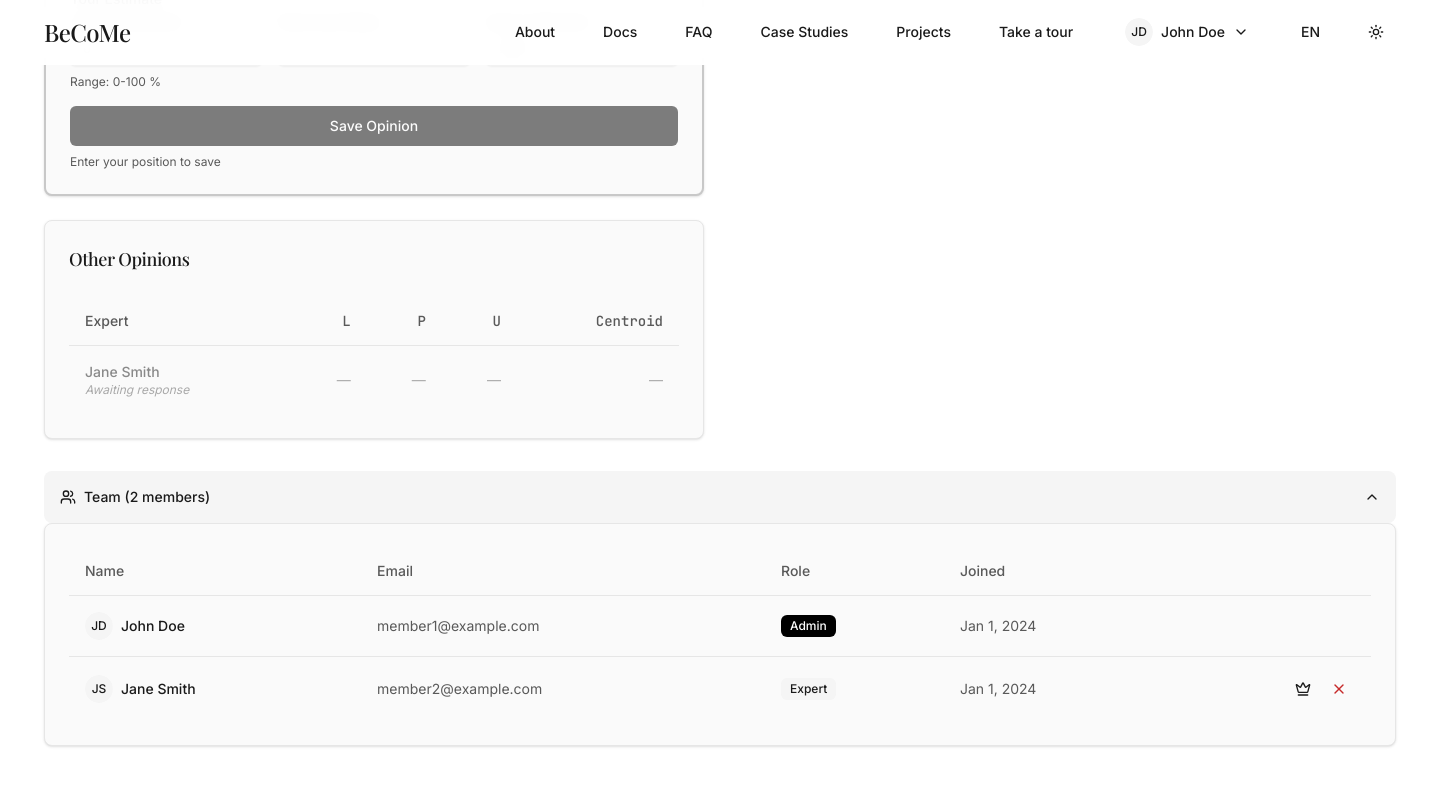
Test case: ProjectDetail - Close Member Profile Dialog › closes profile dialog when dismissed
(page scrolled)
Expected: the text "Jane Smith" is shown, top-left (85, 362), bottom-right (160, 380)
Open the dialog
Click the button with aria-label "view profile of jane smith". click: [158, 689]
box: top-left (121, 679), bottom-right (196, 699)
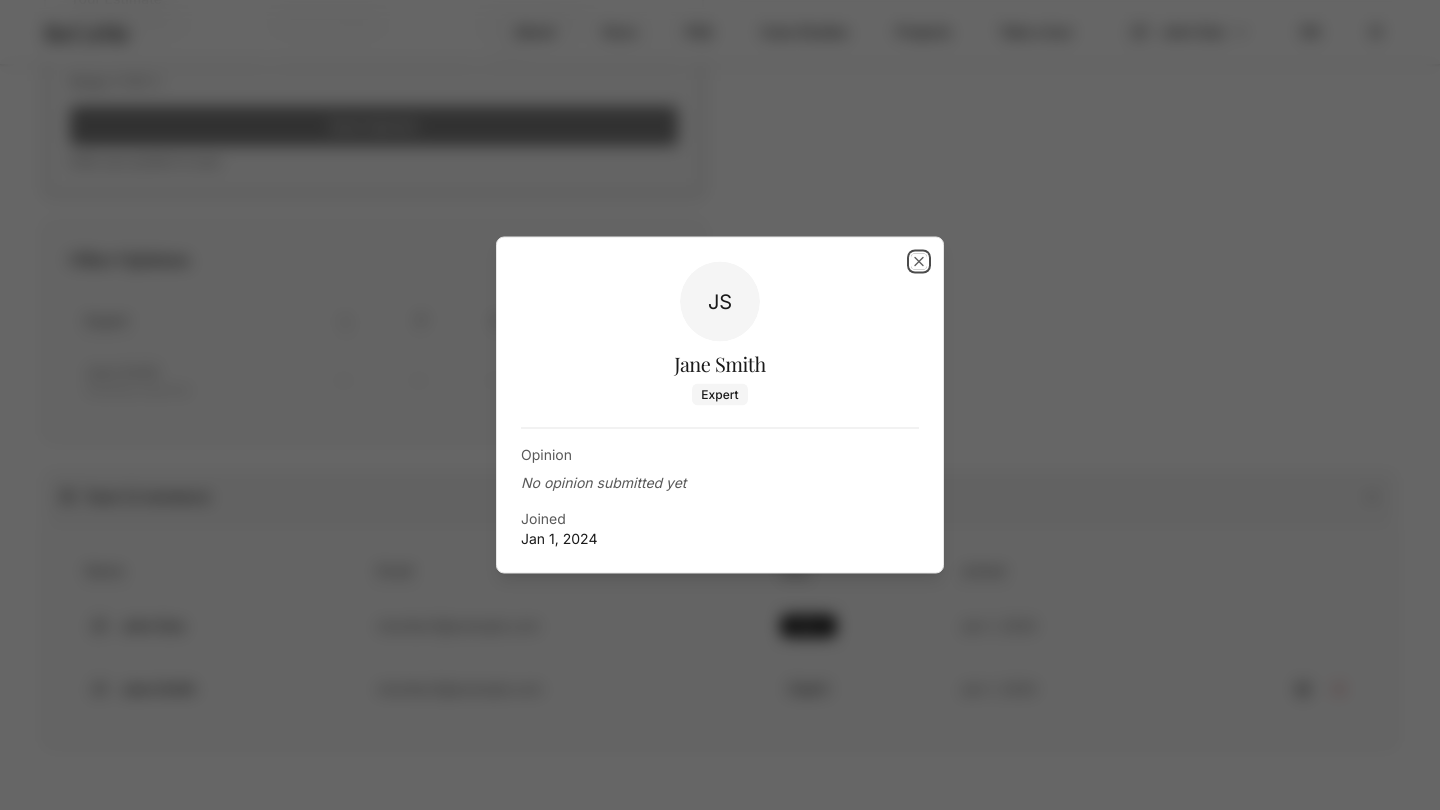
Now the dialog is shown, box top-left (496, 236), bottom-right (944, 574)
Close the dialog by pressing Escape
Press Escape
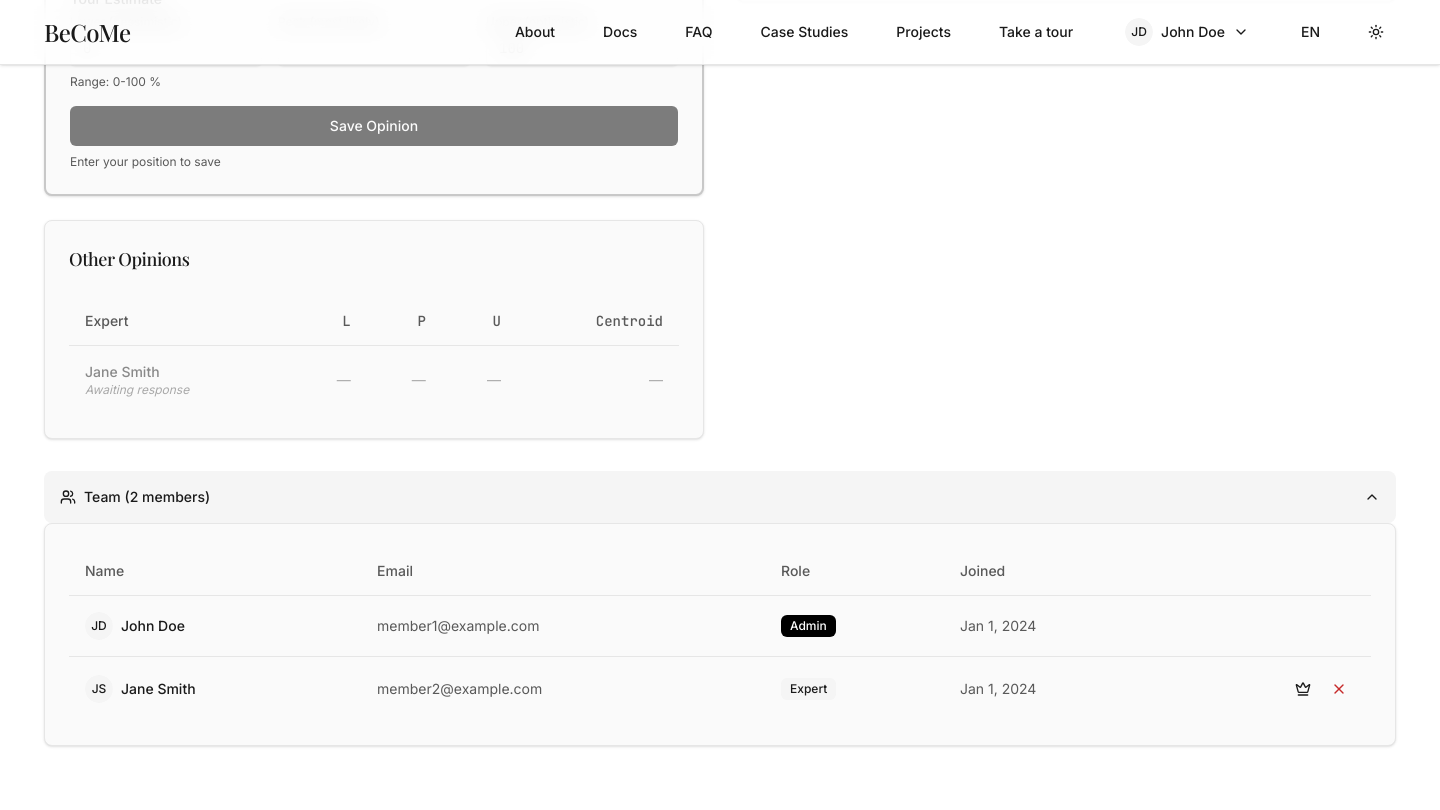
Now the dialog is gone
